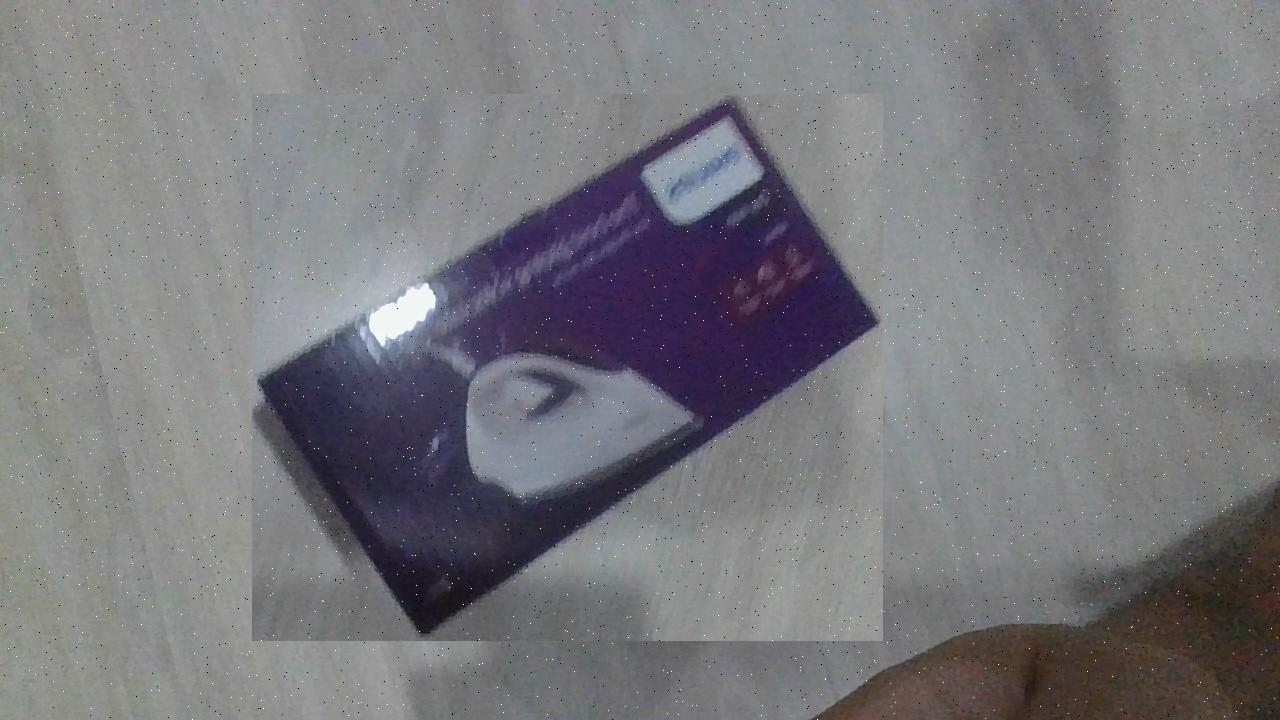IRON: (252, 94, 883, 641)
